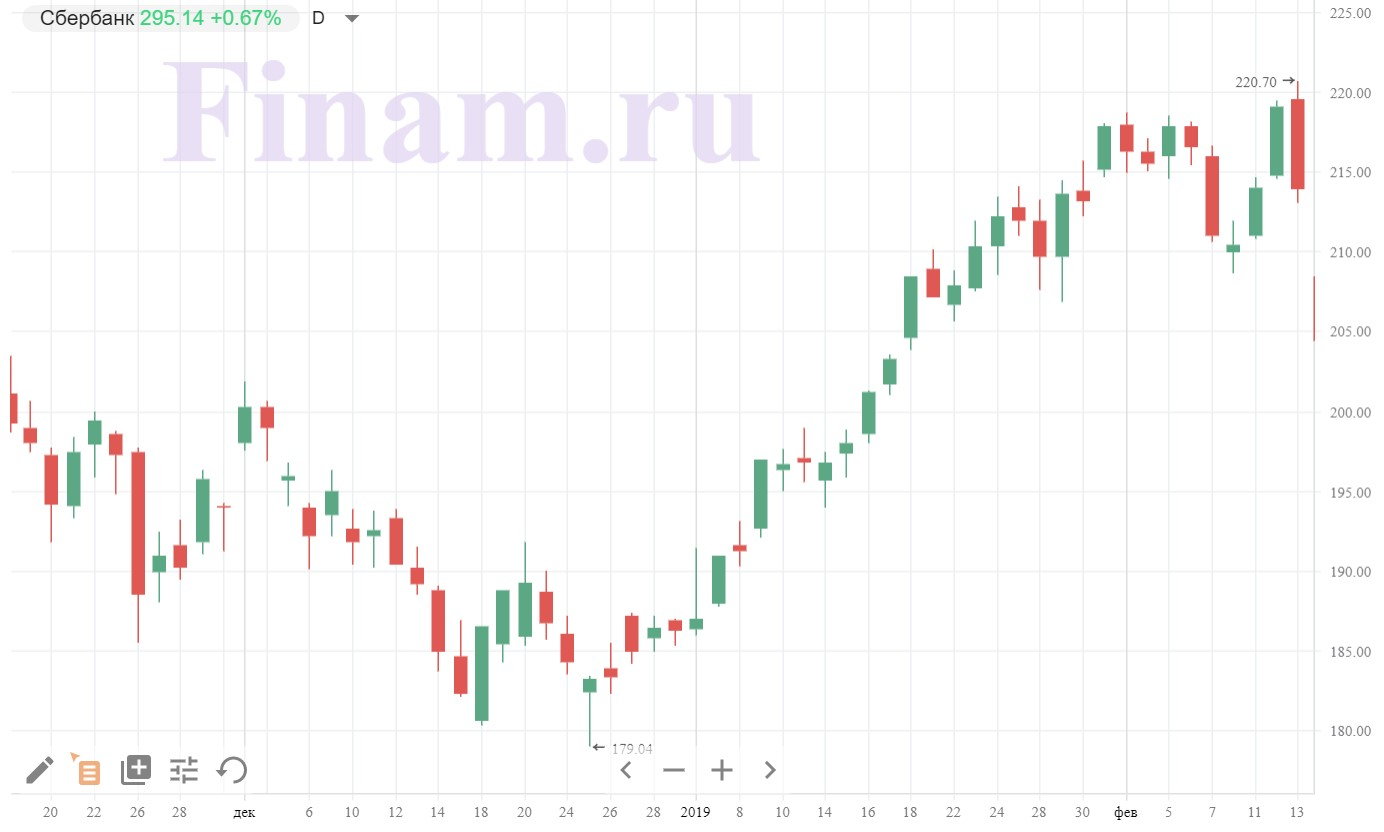bearishEngulfing: (1267, 91, 1310, 222)
bullishEngulfing: (450, 611, 488, 740)
hammer: (577, 667, 600, 760)
morningStar: (1203, 133, 1266, 308)
